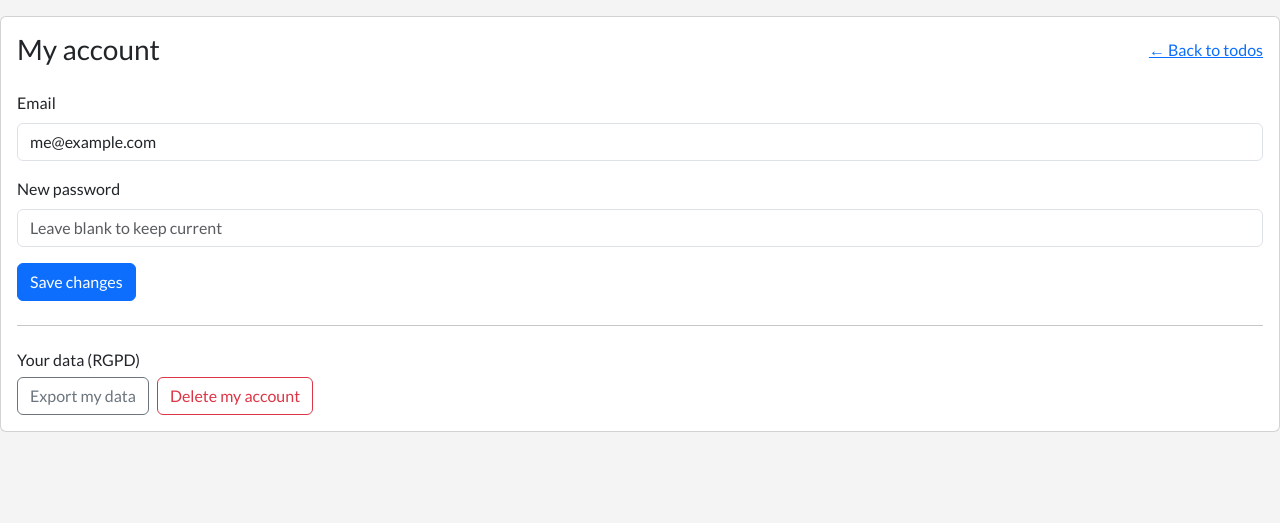
Test case: updates the password through updateProfile
Type "newpassword1" into the password field labelled "New password" at (640, 228), box x1=17 y1=209 x2=1263 y2=247
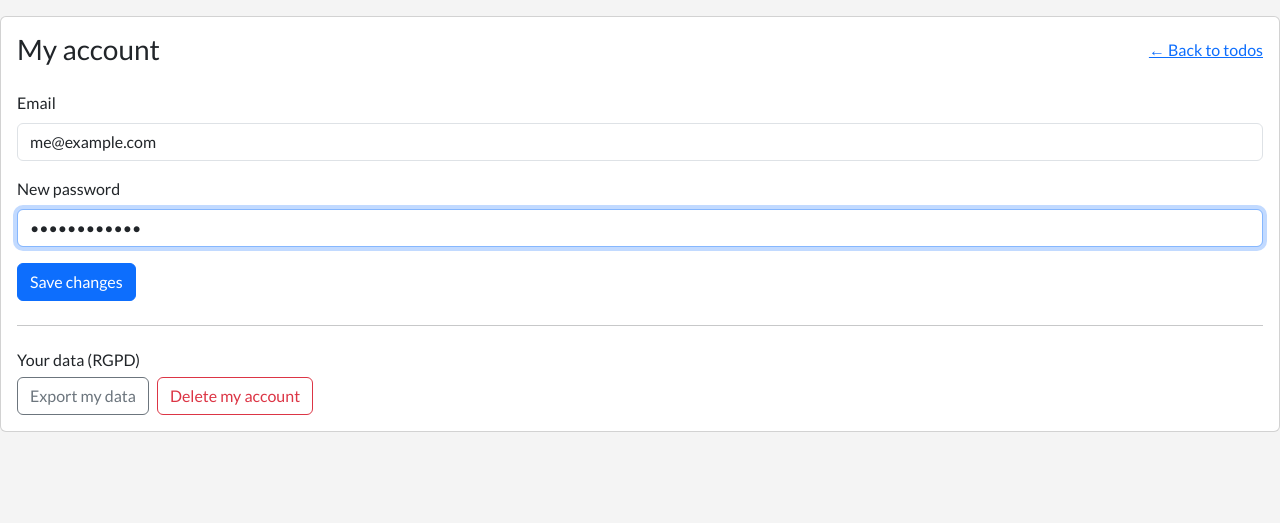
Click the button "Save changes" at (76, 282), box x1=17 y1=263 x2=136 y2=301
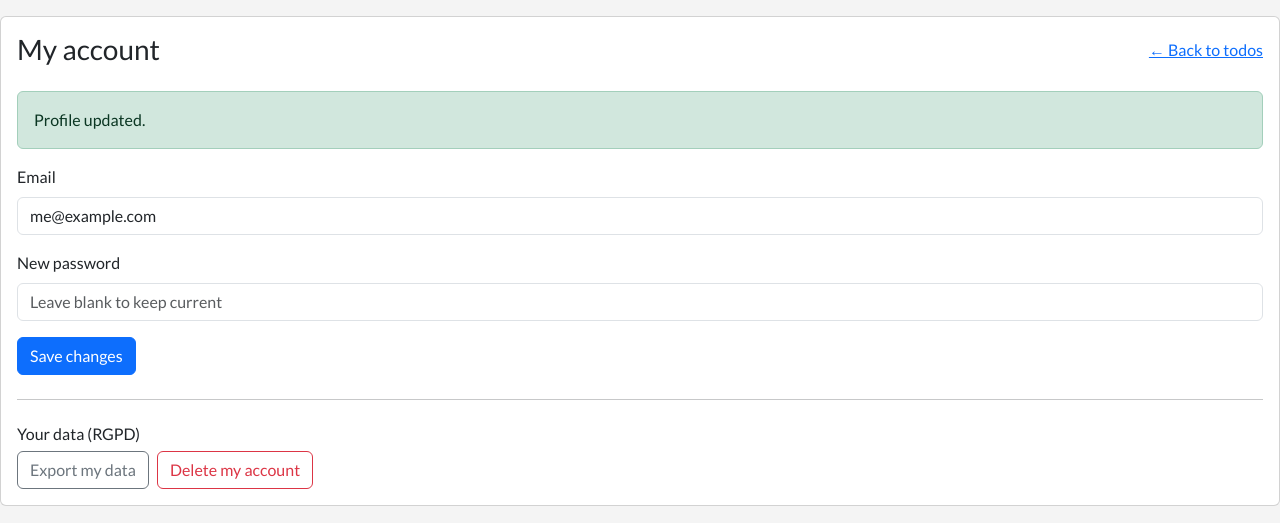
Result: the text "Profile updated." is shown at x1=17 y1=91 x2=1263 y2=149
